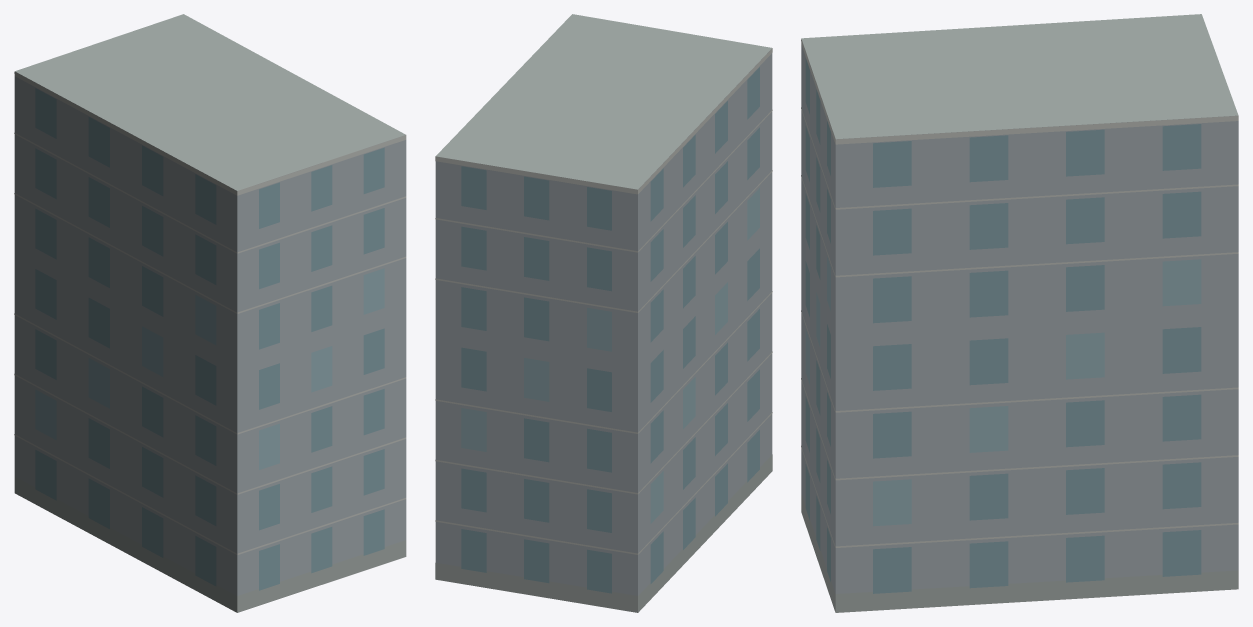
Rendered from survey-upis-32570725.glb.
The picture shows the model from 3 angles, left to right: view 1: azimuth 30°, elevation 25°; view 2: azimuth 150°, elevation 25°; view 3: azimuth 270°, elevation 25°; orthographic projection. The views are drawn at different scales.
Visible parts, largest first — view 1: survey-upis-32570725.tmp; view 2: survey-upis-32570725.tmp; view 3: survey-upis-32570725.tmp.
Part boxes in pixels (box(x1,y1,x2,y2)): survey-upis-32570725.tmp: box(14, 14, 406, 612); survey-upis-32570725.tmp: box(435, 14, 772, 612); survey-upis-32570725.tmp: box(801, 14, 1238, 612).
Bounding box in the file's own units: 12.13 × 21.35 × 17.89.
